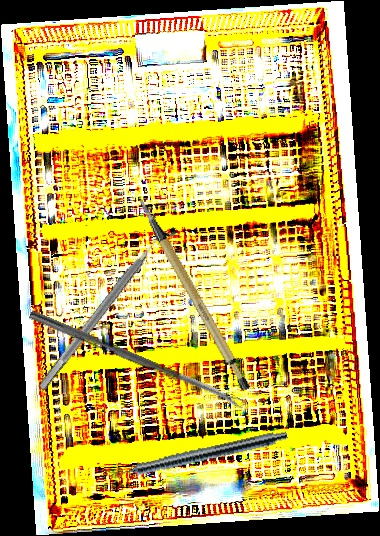Fixation Ring: (27, 211, 180, 399)
Handpiece: (104, 425, 289, 484)
Scalpel Handle: (137, 184, 254, 402)
Surgical Spoon: (28, 310, 246, 410)
